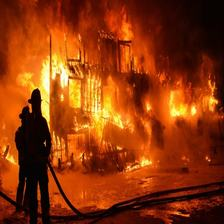fire: (46, 25, 179, 173), (10, 3, 144, 44), (155, 68, 221, 120), (10, 57, 43, 88), (3, 140, 17, 174)
